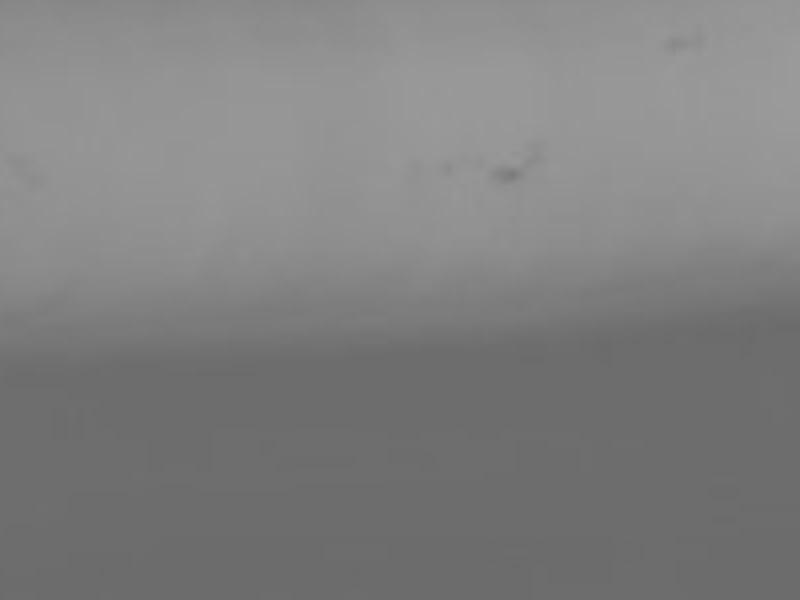defect: (520, 137, 547, 169), (664, 35, 706, 54), (485, 166, 521, 188), (437, 159, 461, 178), (408, 161, 429, 182)
